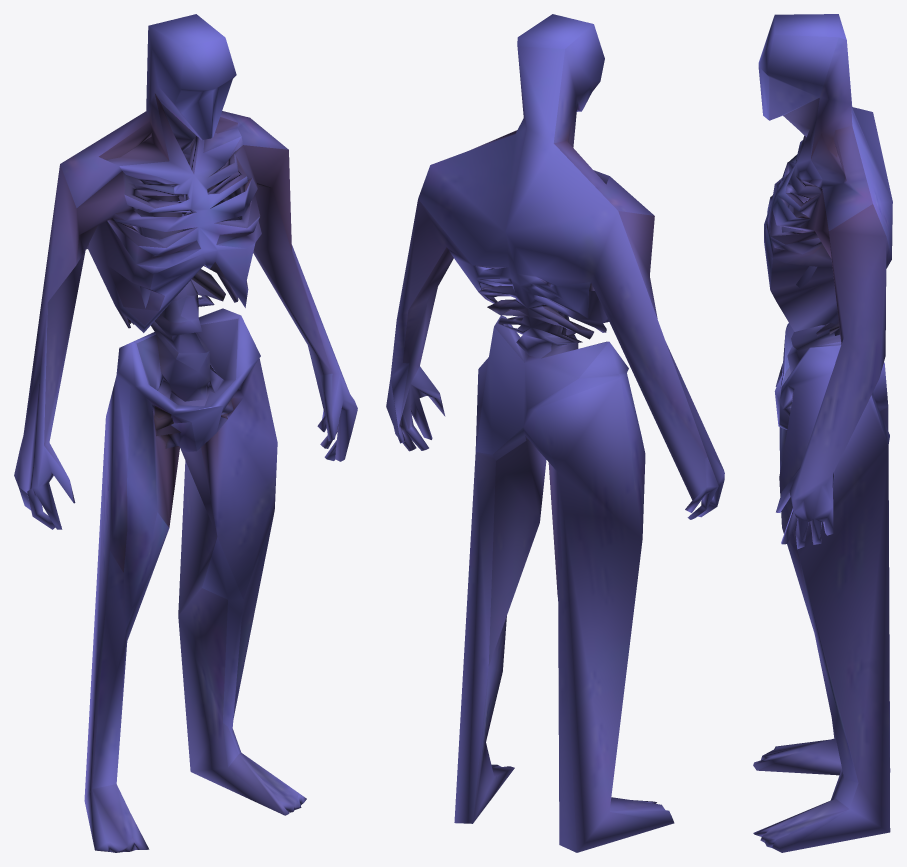
The model's file is model.progressive.glb.
3 renders of one model, left to right at view 1: azimuth 30°, elevation 25°; view 2: azimuth 150°, elevation 25°; view 3: azimuth 270°, elevation 25°, orthographic.
Parts seen in each view (by area): view 1: material; view 2: material; view 3: material.
Part boxes in pixels (left/top/right/bottom): material: left=14, top=14, right=357, bottom=852; material: left=386, top=14, right=724, bottom=852; material: left=753, top=14, right=892, bottom=852.
Size of the model in its own units: 0.826 by 1.86 by 0.3027.
1 material, 1 textured.
